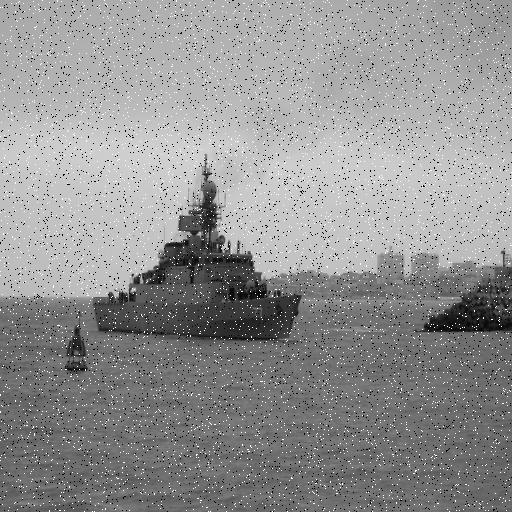Fragata: (91, 147, 304, 345)
